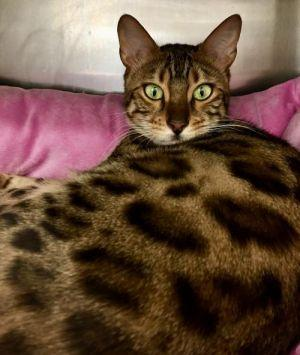bengal: (110, 4, 248, 153)
